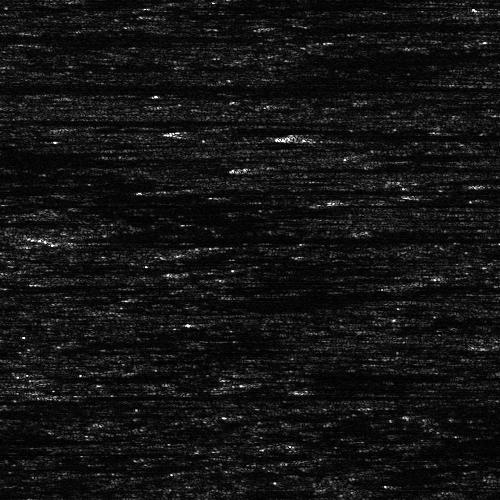rock: (0, 379, 202, 408), (210, 22, 303, 31), (0, 61, 59, 70), (123, 187, 196, 194), (452, 343, 500, 348), (0, 115, 21, 126), (51, 234, 82, 239), (279, 375, 320, 378), (0, 402, 22, 407), (236, 166, 267, 169)
shadow: (62, 379, 409, 408), (0, 75, 415, 94), (0, 27, 202, 46), (160, 187, 500, 194), (257, 22, 500, 31), (0, 115, 195, 126), (13, 61, 247, 70), (0, 406, 160, 419), (0, 402, 157, 407), (0, 395, 55, 406), (67, 234, 153, 239), (0, 157, 141, 160), (300, 375, 393, 378), (252, 166, 338, 169), (479, 343, 500, 348)
